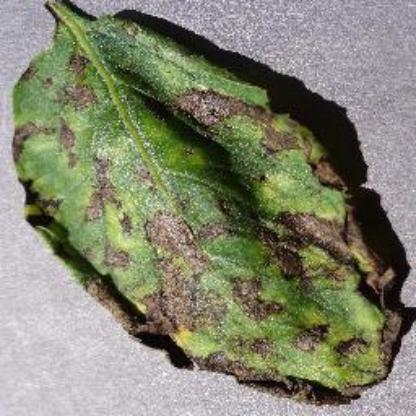Early-Blight: (11, 6, 408, 406)
